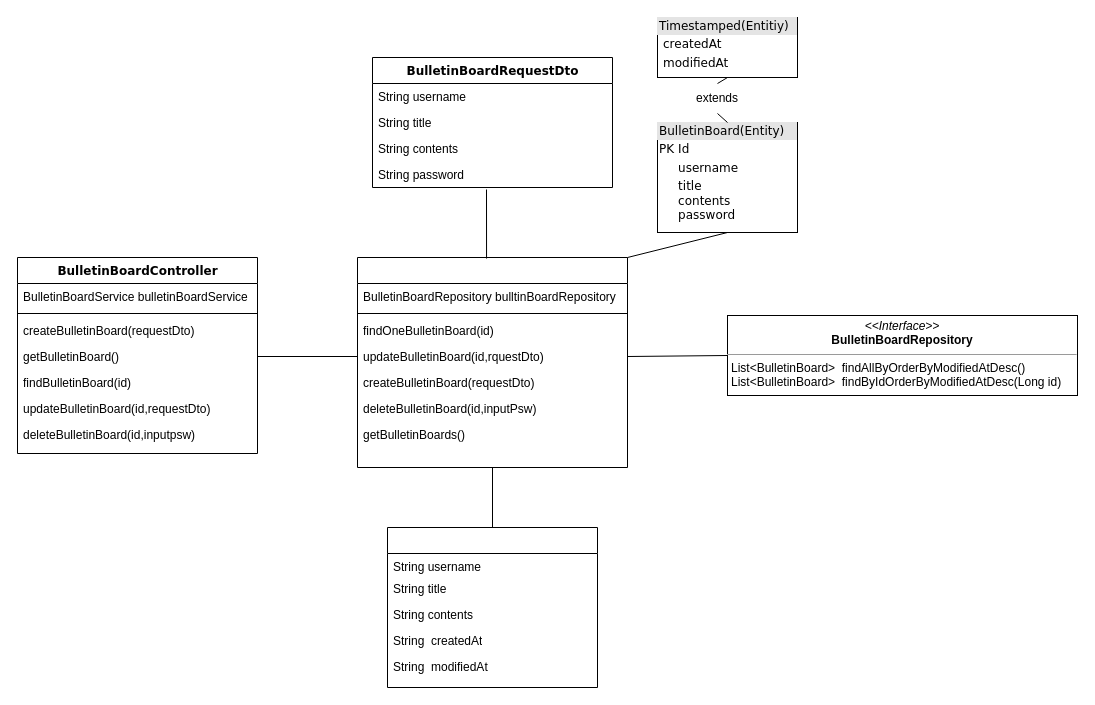
Image size: 1095x705. Some labels were removed from this diagram. Each missing label, with the box of its shape:
BulletinBoardResponseDto: (386, 526, 598, 688)
BulletinBoardService: (356, 256, 628, 468)
